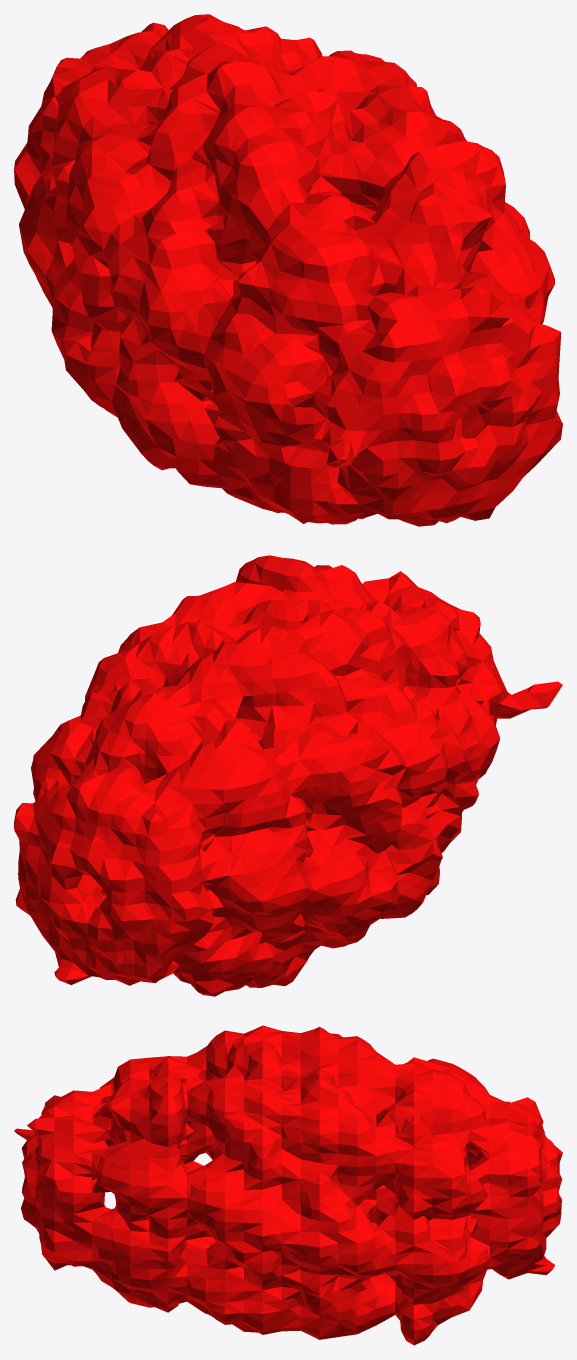
The model's file is 60_kDa_heat_shock_protein__mit_coarse.dae.
The picture shows the model from 3 angles, top to bottom: view 1: azimuth 30°, elevation 25°; view 2: azimuth 150°, elevation 25°; view 3: azimuth 270°, elevation 25°; orthographic projection. The views are drawn at different scales.
Parts seen in each view (by area): view 1: 60_kDa_heat_shock_protein__mit; view 2: 60_kDa_heat_shock_protein__mit; view 3: 60_kDa_heat_shock_protein__mit.
Part boxes in pixels (x1,y1,x2,y2): 60_kDa_heat_shock_protein__mit: (14, 14, 562, 526); 60_kDa_heat_shock_protein__mit: (14, 555, 562, 996); 60_kDa_heat_shock_protein__mit: (14, 1025, 562, 1345).
Bounding box in the file's own units: 147 × 148 × 256.
